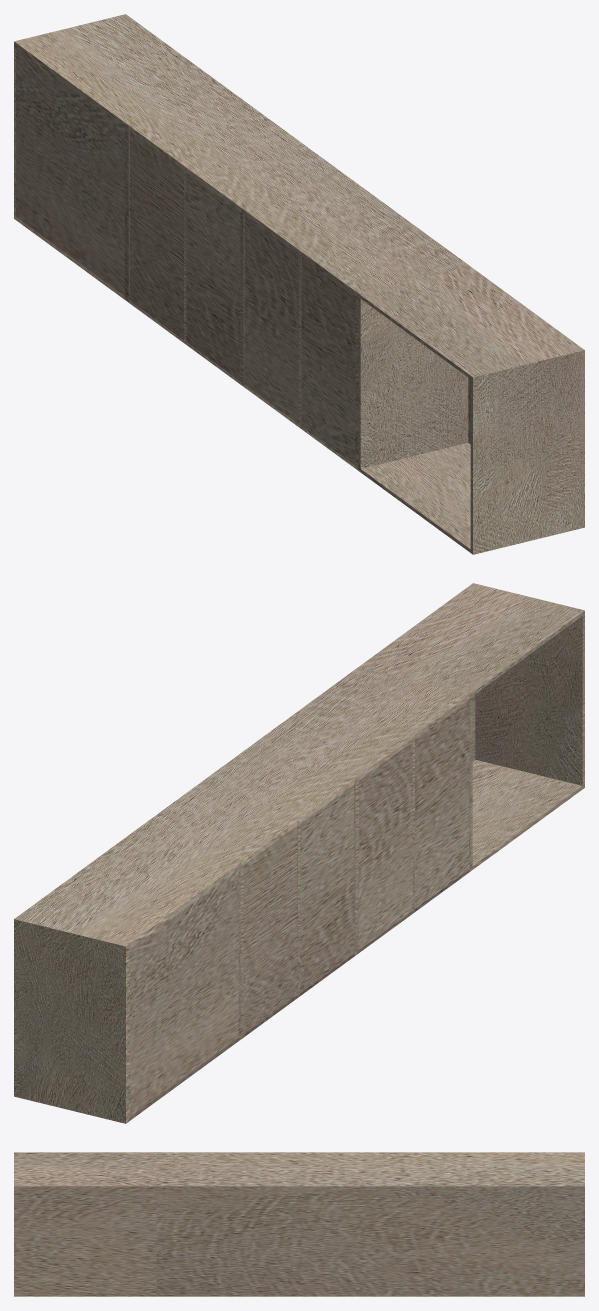
File: ülemine_köögikapp.fbx
3 views of the same model, one above another, from view 1: azimuth 30°, elevation 25°; view 2: azimuth 150°, elevation 25°; view 3: azimuth 270°, elevation 25° (orthographic). The views are drawn at different scales.
Visible parts, largest first — view 1: ülemine köögikapp; view 2: ülemine köögikapp; view 3: ülemine köögikapp.
Part boxes in pixels (<box>): ülemine köögikapp: <box>14,14,584,554</box>; ülemine köögikapp: <box>14,583,584,1123</box>; ülemine köögikapp: <box>14,1152,584,1296</box>.
Size of the model in its own units: 511 by 767 by 3599.
